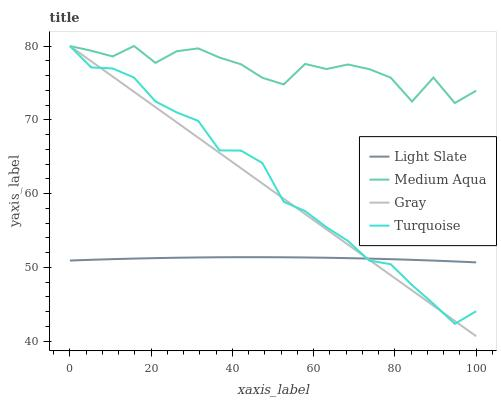axis: (59, 347, 501, 358), (40, 29, 54, 349)
legend: (360, 136, 497, 246)
line: (71, 48, 477, 337), (69, 45, 477, 326), (70, 44, 477, 105), (70, 256, 476, 264)
